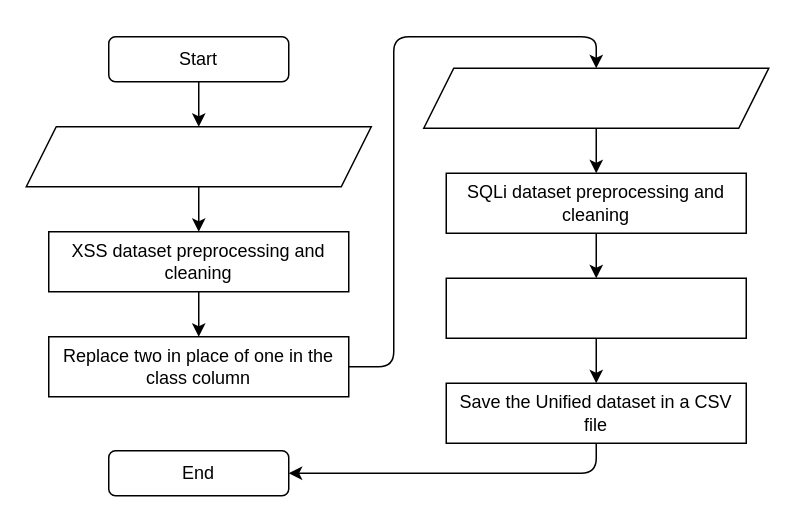
The diagram is 795 pixels wide and 522 high, and some of its shapes have lost their labels. The centre of each missing label's shape, as x and y in pixels:
Read SQLi dataset: [595,97]
Read XSS dataset: [198,156]
Unify both datasets in a single data frame: [595,307]
